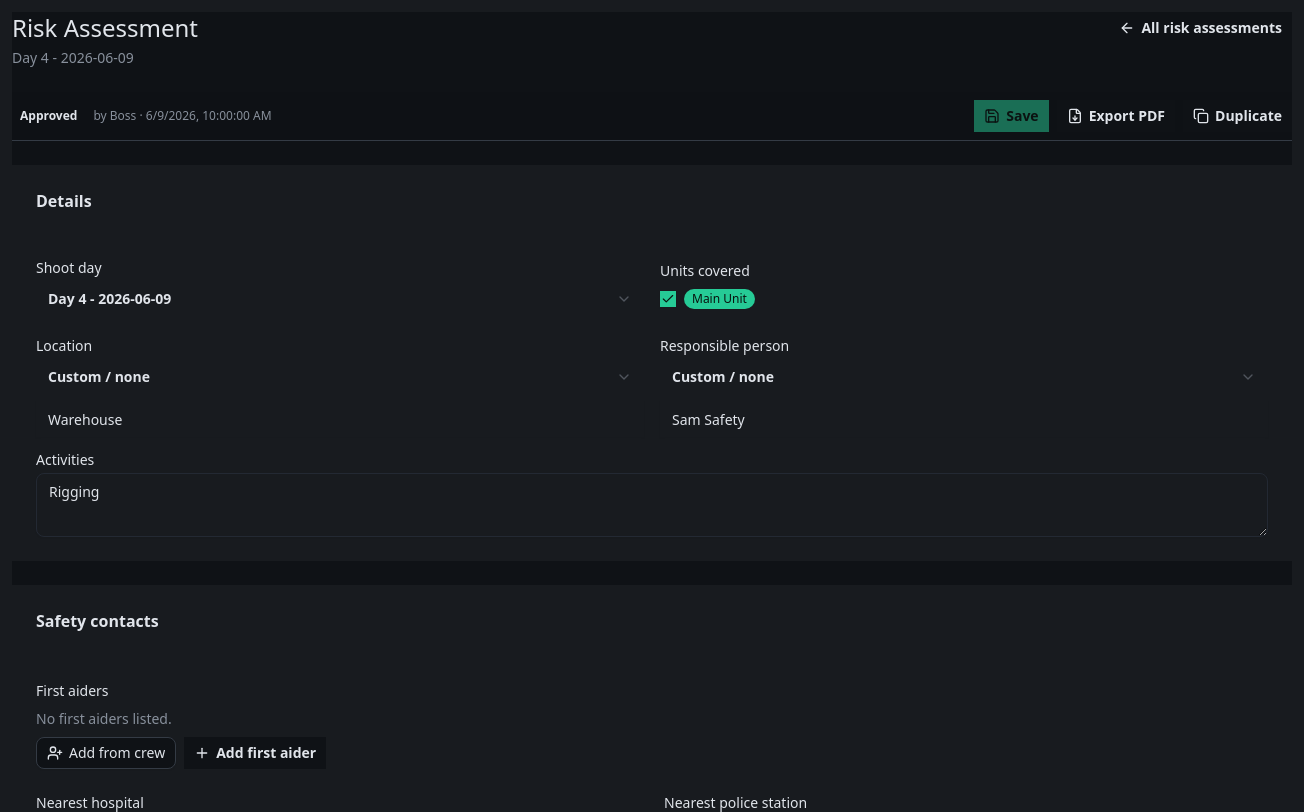
Test: RiskAssessmentEditorPage › warns that saving an approved RAMS will revert it to draft
Expected: the text "Approved" is shown, [20, 107, 77, 124]
Expected: the text "by Boss · 6/9/2026, 10:00:00 AM" is shown, [93, 108, 272, 124]
Type " 2" into the field named "Location name" at [340, 419], box [36, 401, 644, 437]
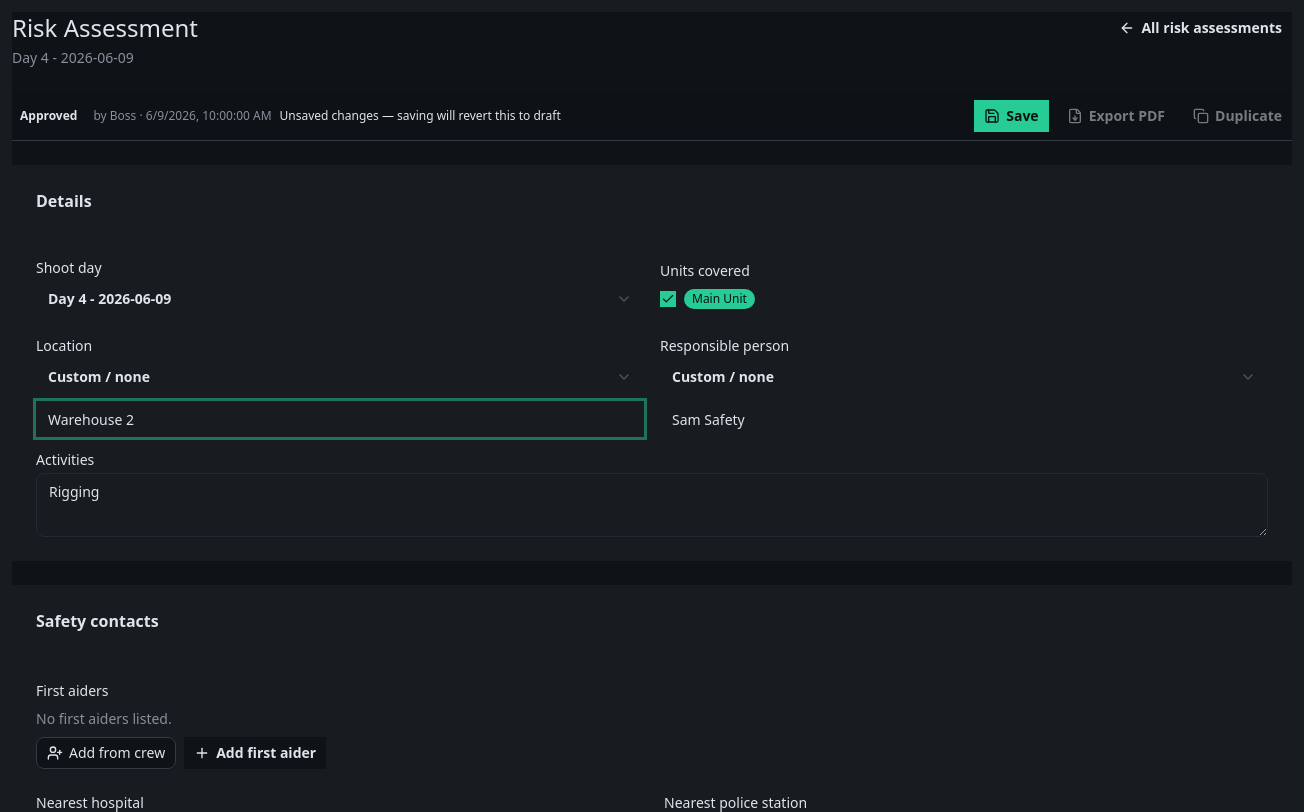
Result: the text "Unsaved changes — saving will revert this to draft" is shown at [280, 108, 561, 124]
